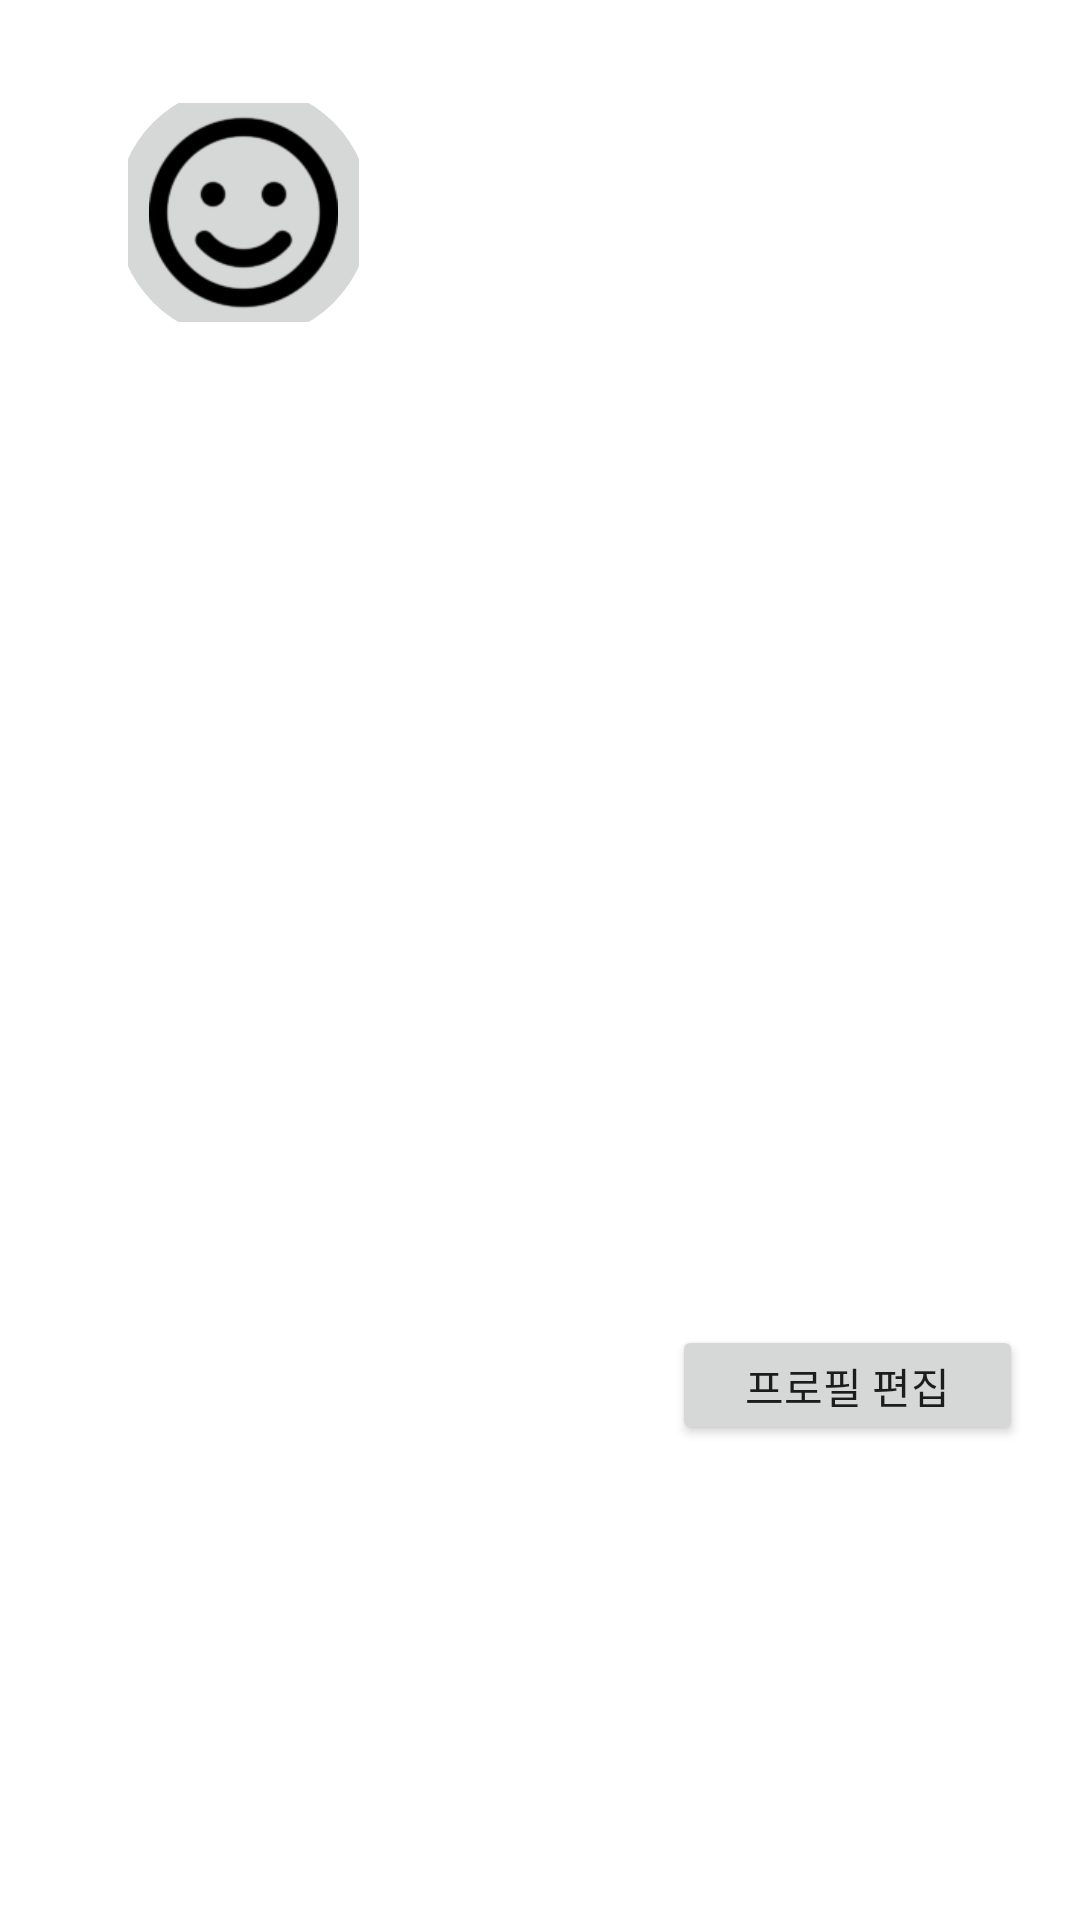

Where to tap for icons on this 1080×1920 app screen, as (x,y):
smileicon: (243,212)
